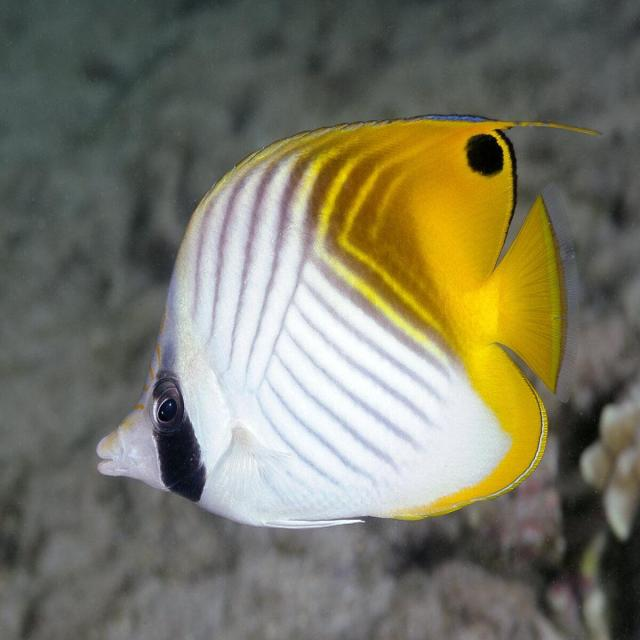ButterflyFish: (100, 115, 554, 528)
